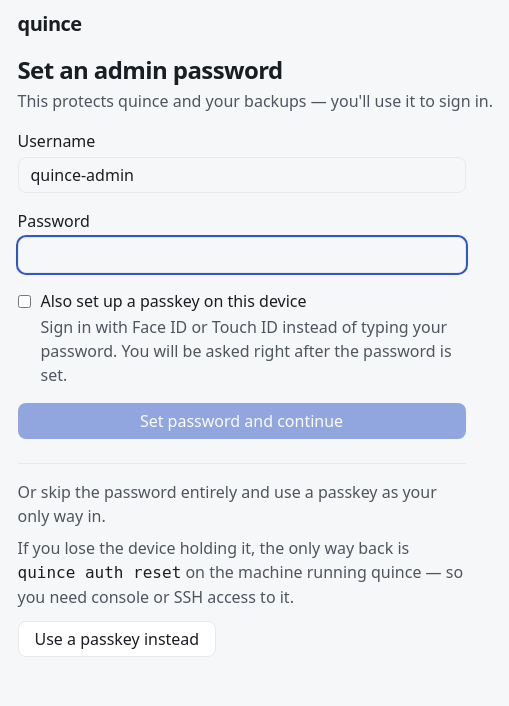
it: going passwordless at first run › surfaces the server's refusal
The image size is (509, 706).
Click the button "Use a passkey instead" at x=117, y=639, box [18,621,216,657]
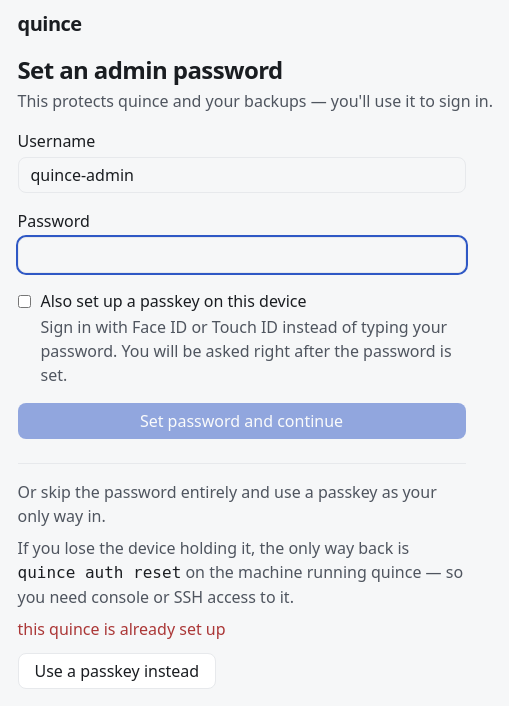
Result: the text "this quince is already set up" is shown at [18,618,226,640]
